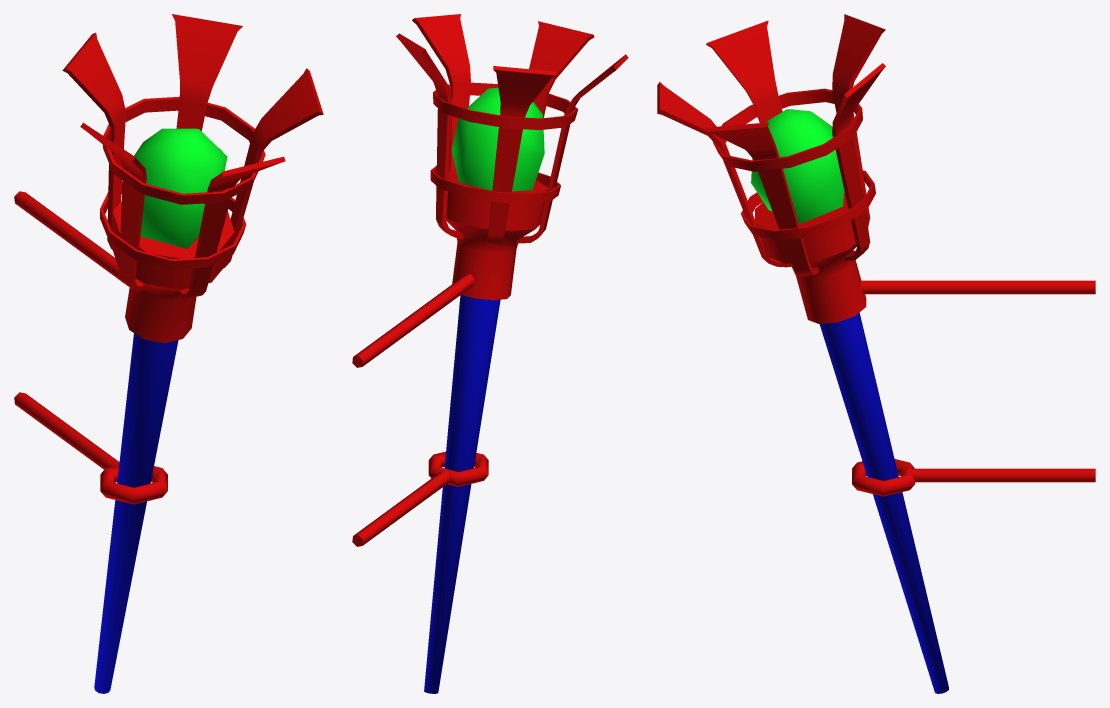
Rendered from Medieval_wall_torch.fbx.
3 renders of one model, left to right at view 1: azimuth 30°, elevation 25°; view 2: azimuth 150°, elevation 25°; view 3: azimuth 270°, elevation 25°, orthographic. The views are drawn at different scales.
Parts seen in each view (by area): view 1: Torch; view 2: Torch; view 3: Torch.
Part boxes in pixels (x1,y1,x2,y2): Torch: (14, 14, 323, 693); Torch: (352, 14, 628, 693); Torch: (657, 14, 1095, 693).
Size of the model in its own units: 59.04 by 170 by 104.
